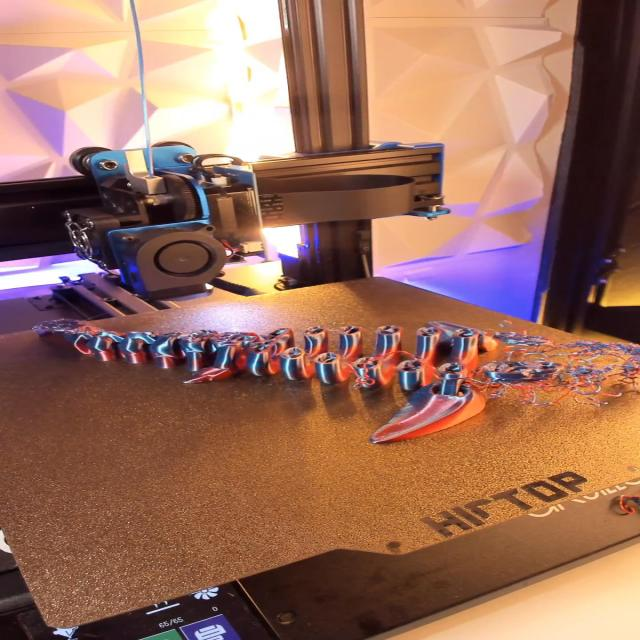spaghetti: (480, 318, 640, 412)
